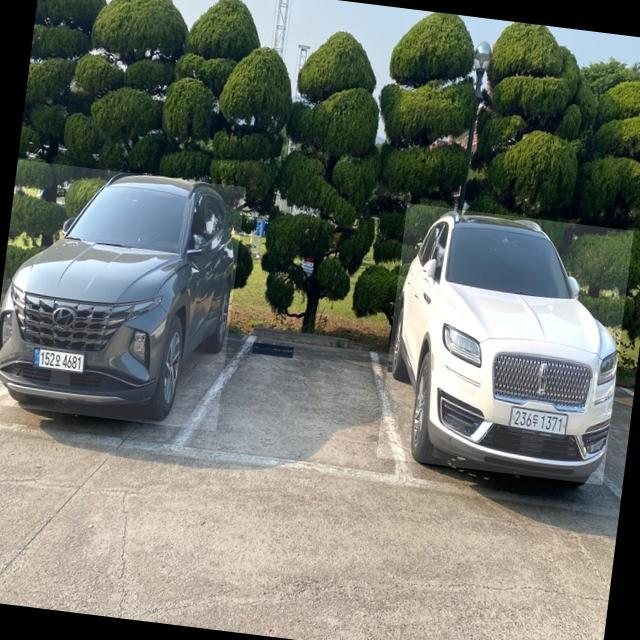empty: (162, 331, 419, 487)
occupied: (376, 202, 634, 484), (0, 159, 245, 431)
